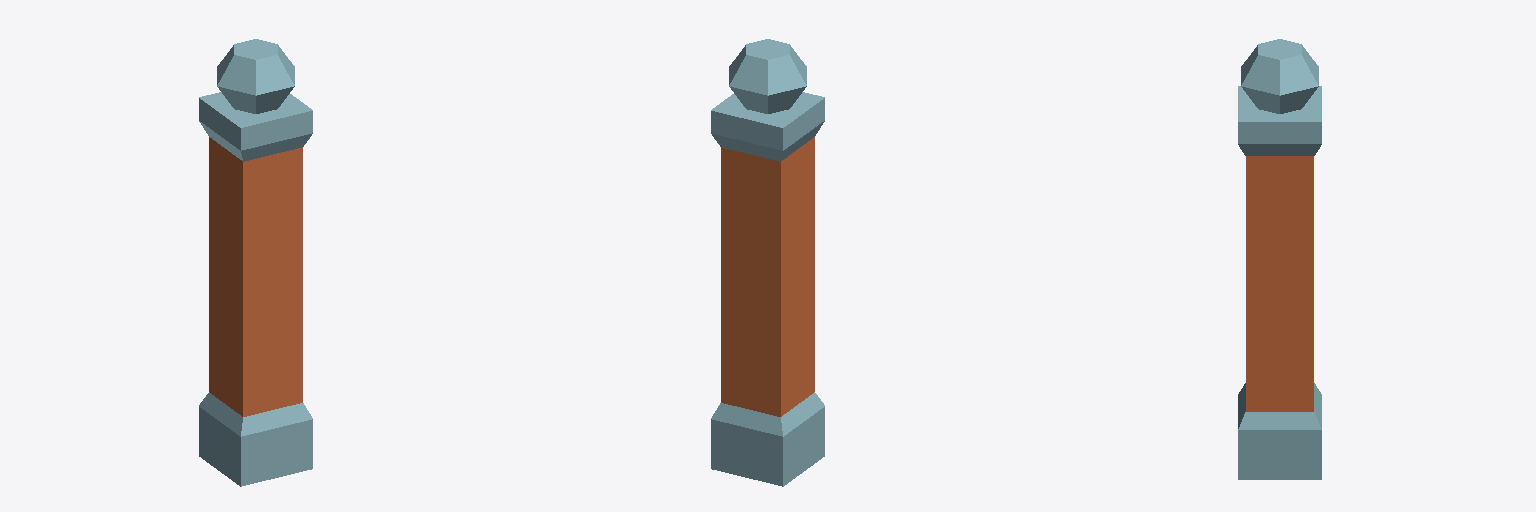
File: pillarLarge.obj
3 renders of one model, left to right at view 1: azimuth 30°, elevation 25°; view 2: azimuth 150°, elevation 25°; view 3: azimuth 270°, elevation 25°, orthographic.
Visible parts, largest first — view 1: pillarLarge; view 2: pillarLarge; view 3: pillarLarge.
Boxes of the visible parts, x1=… form: pillarLarge: x1=199, y1=39, x2=312, y2=486; pillarLarge: x1=711, y1=39, x2=824, y2=486; pillarLarge: x1=1238, y1=39, x2=1321, y2=479.
Size of the model in its own units: 0.18 by 0.91 by 0.168.